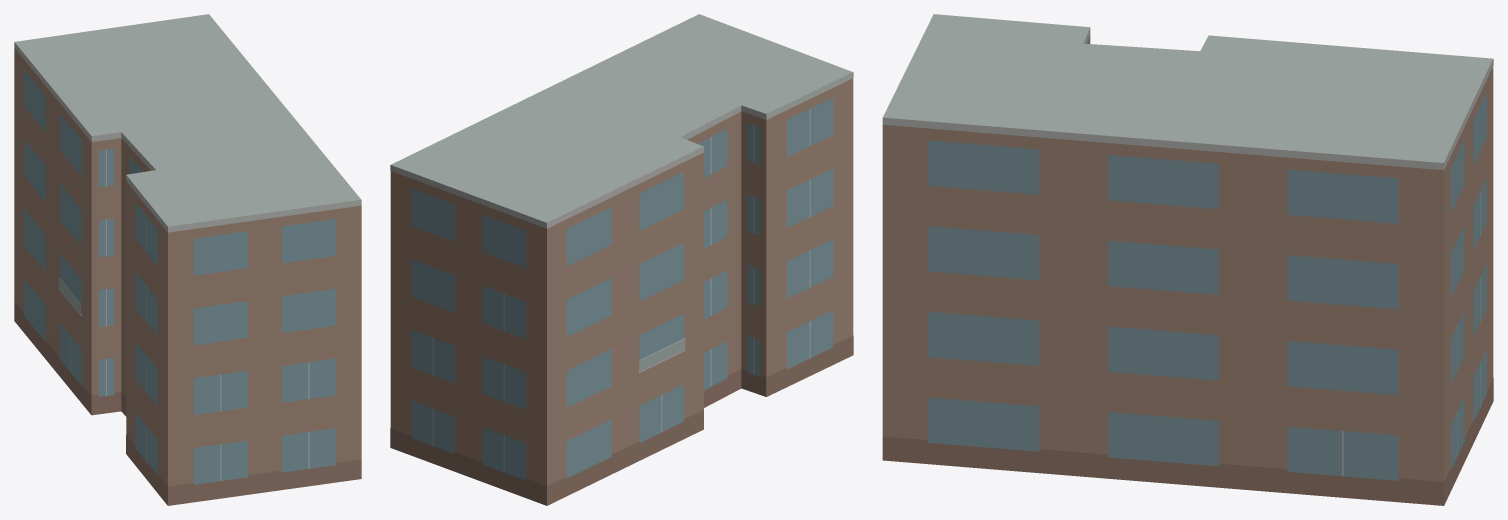
The model's file is survey-upis-32670837.glb.
3 renders of one model, left to right at view 1: azimuth 30°, elevation 25°; view 2: azimuth 150°, elevation 25°; view 3: azimuth 270°, elevation 25°, orthographic. The views are drawn at different scales.
Parts seen in each view (by area): view 1: survey-upis-32670837.tmp; view 2: survey-upis-32670837.tmp; view 3: survey-upis-32670837.tmp.
Part boxes in pixels (box(x1,y1,x2,y2)): survey-upis-32670837.tmp: box(14, 14, 361, 505); survey-upis-32670837.tmp: box(390, 14, 853, 505); survey-upis-32670837.tmp: box(882, 14, 1493, 505).
Bounding box in the file's own units: 10.92 × 11.7 × 18.9.
